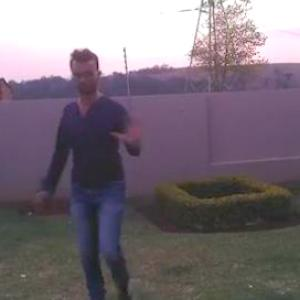follow_hand: (108, 110, 148, 147)
